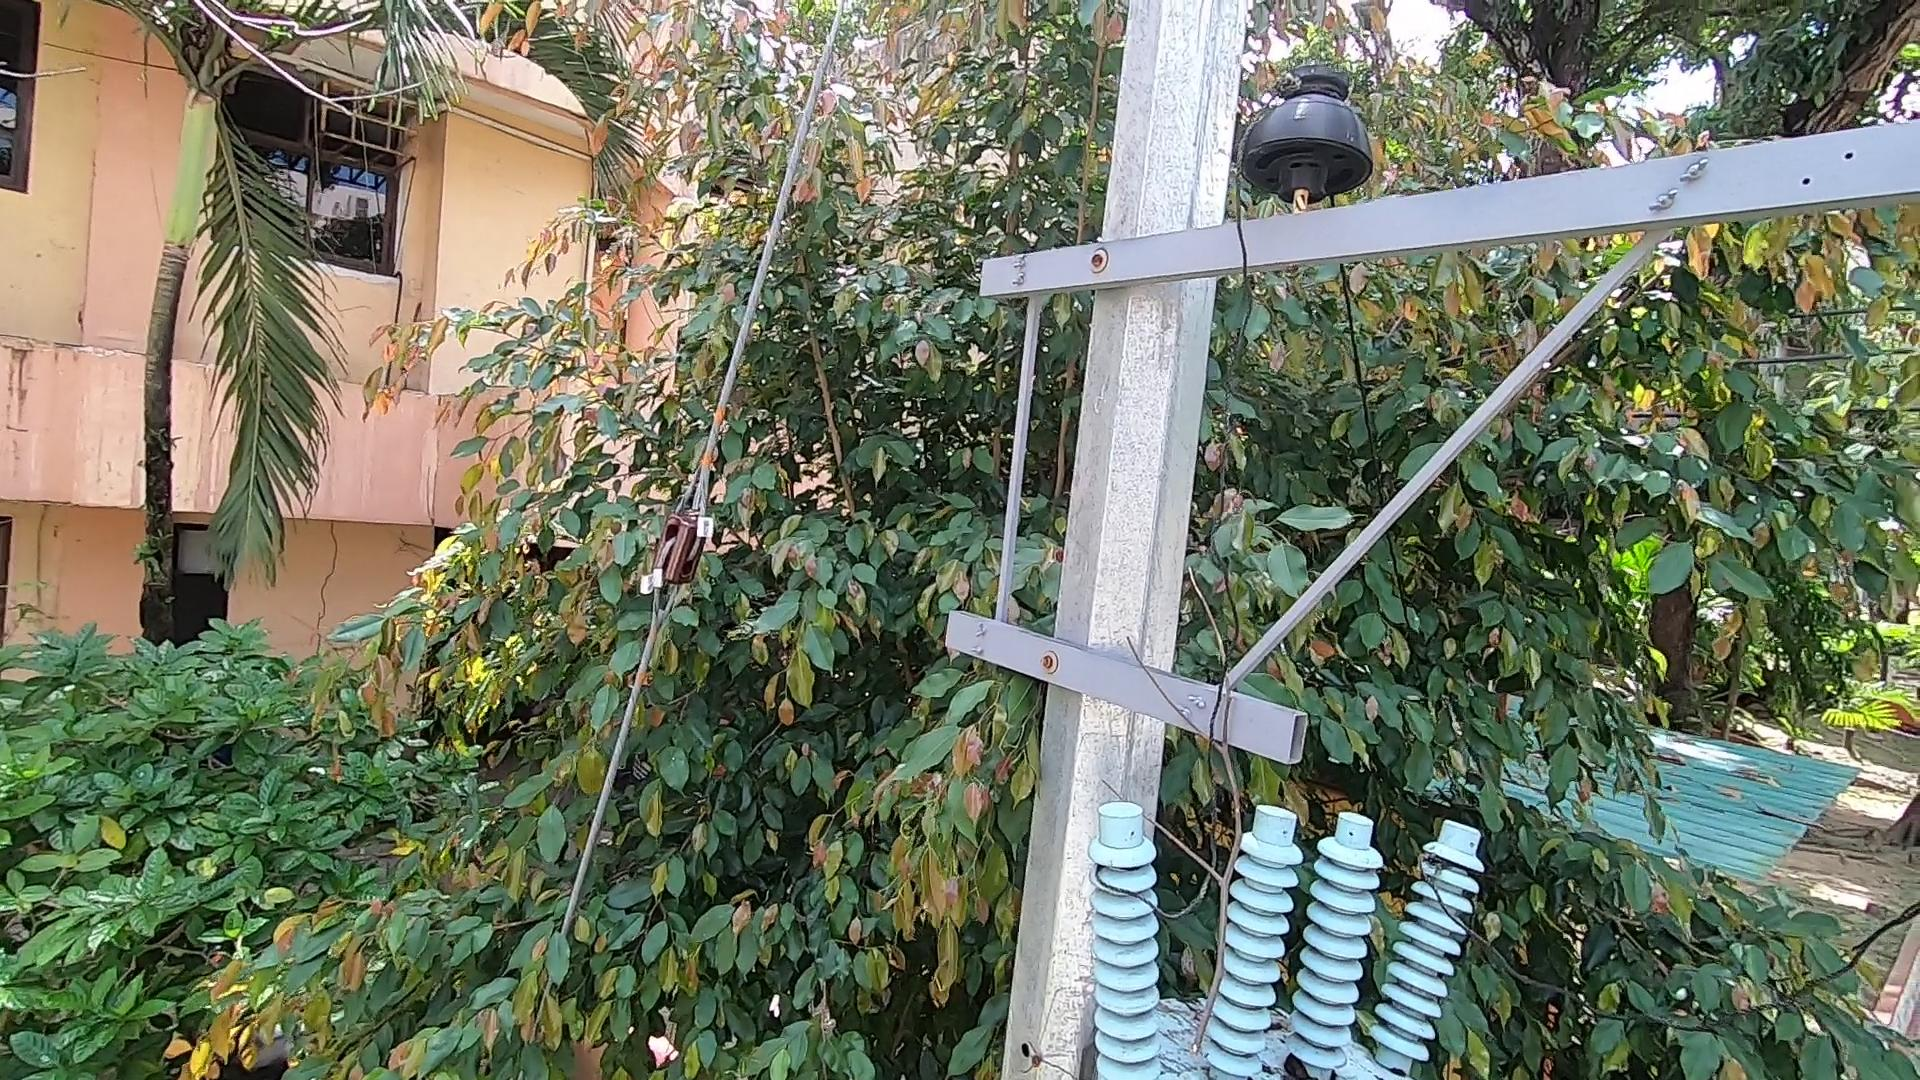leaf: (1273, 1046, 1309, 1080)
tree branch: (1129, 524, 1261, 1052)
